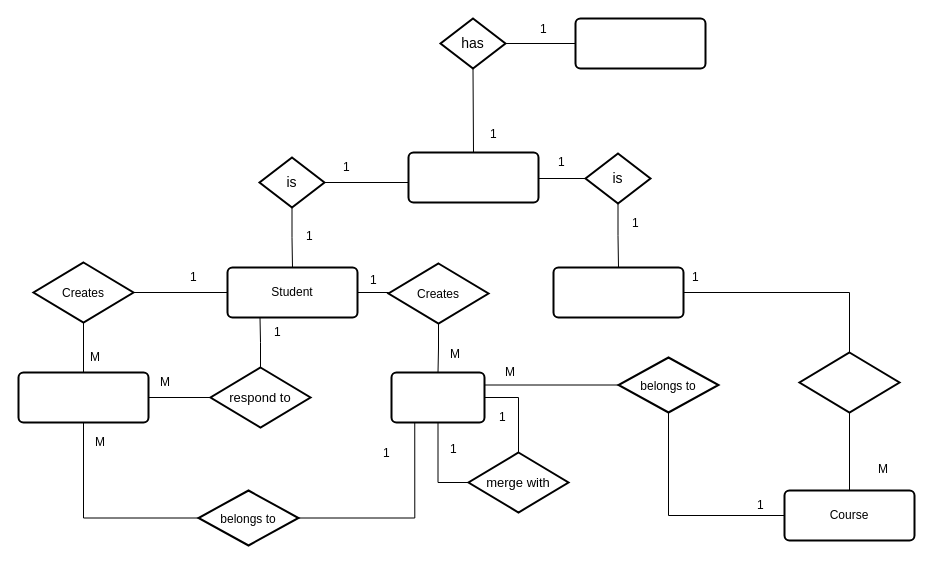
Image size: 932x563. Some labels were removed from this diagram. Each missing label, with the box of its shape:
adds: (798, 351, 900, 413)
Coordinator: (552, 266, 684, 318)
MemberRequest: (17, 371, 149, 423)
Team: (390, 371, 485, 423)
User: (407, 151, 539, 203)
UserProfile: (574, 17, 706, 69)
